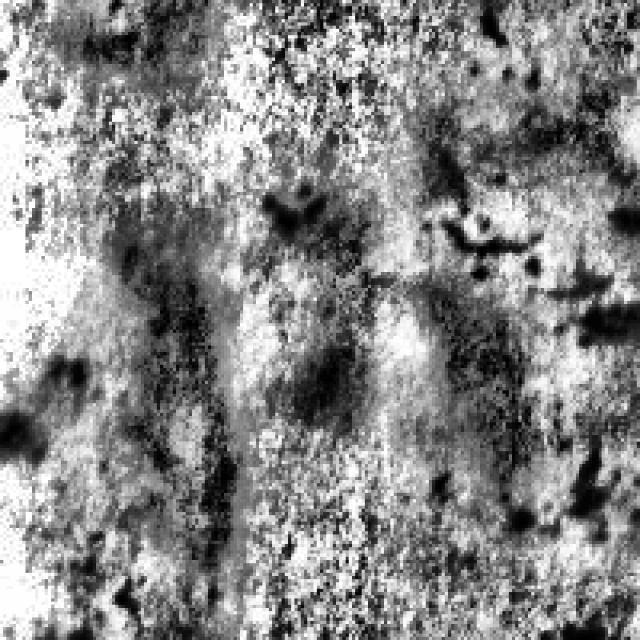Patches: (474, 438, 624, 538), (512, 247, 637, 356), (0, 342, 93, 473), (250, 170, 330, 233)
Scratches: (106, 236, 247, 564), (422, 0, 637, 195), (384, 285, 566, 496)
